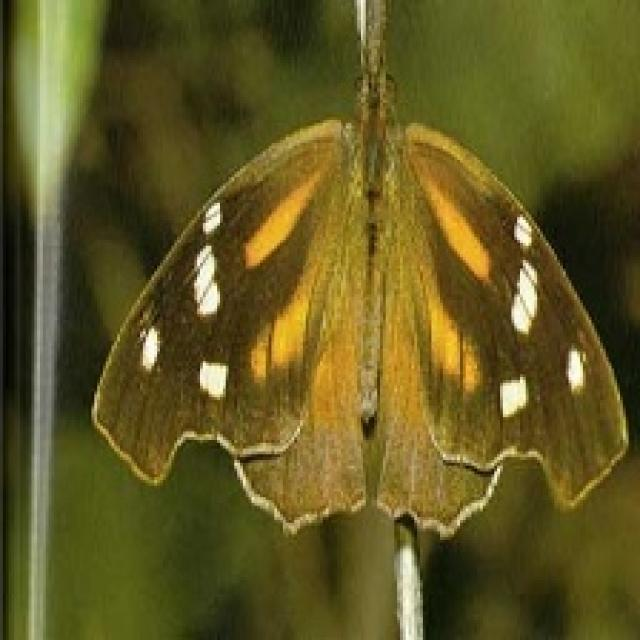butterfly: (89, 0, 632, 540)
